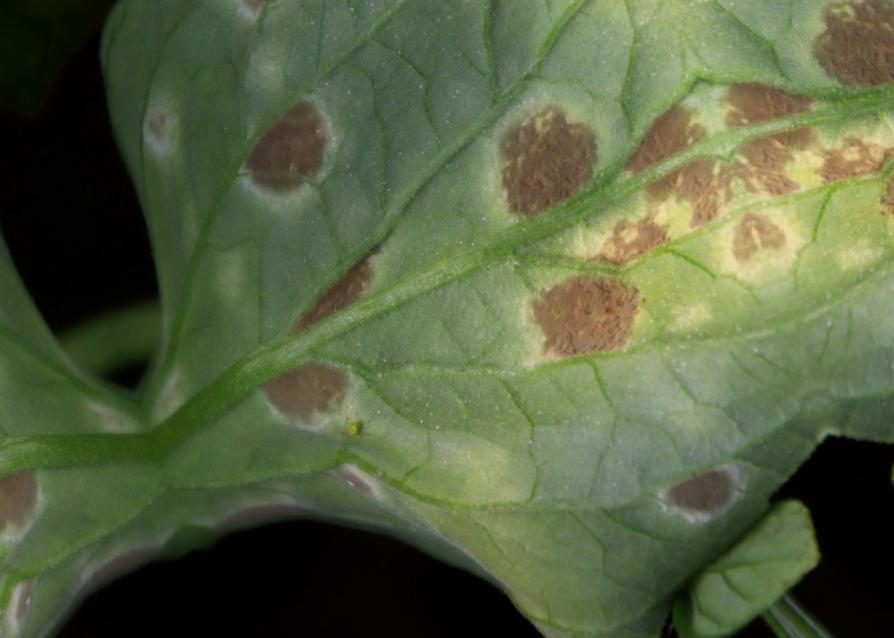Tomato mold leaf: (25, 0, 882, 638)
